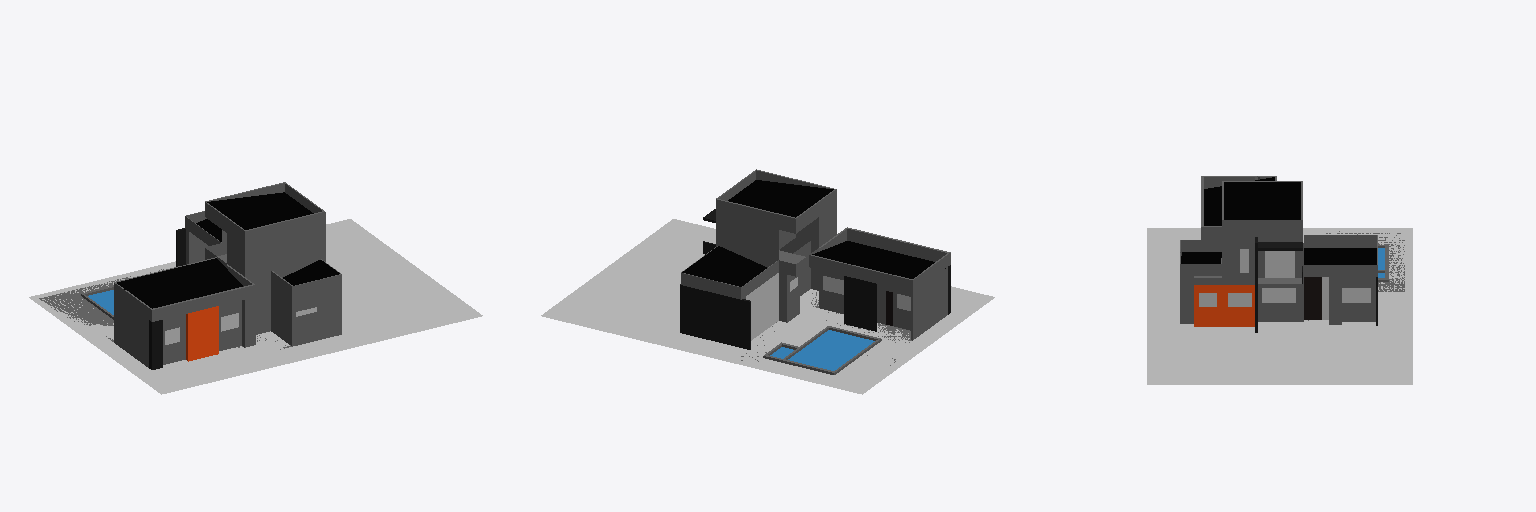
Rendered from casa.obj.
3 renders of one model, left to right at view 1: azimuth 30°, elevation 25°; view 2: azimuth 150°, elevation 25°; view 3: azimuth 270°, elevation 25°, orthographic.
Visible parts, largest first — view 1: casaLeoEdd, casa_Plane, nivel2_Plane.004, techocorrugado_Plane.007, naranja_Plane.017, gris-obs_Plane.005, ventanas_Plane.001; view 2: casaLeoEdd, casa_Plane, nivel2_Plane.004, techocorrugado_Plane.007, gris-obs_Plane.005, agua_Plane.002, ventanas_Plane.001, orilla-alberca_Plane.003; view 3: casaLeoEdd, casa_Plane, techocorrugado_Plane.007, nivel2_Plane.004, ventanas_Plane.001, naranja_Plane.017, gris-obs_Plane.005, puerta_Plane.006.
Boxes of the visible parts, x1=… form: casaLeoEdd: x1=29, y1=219, x2=482, y2=394; casa_Plane: x1=39, y1=211, x2=341, y2=367; nivel2_Plane.004: x1=205, y1=182, x2=325, y2=285; techocorrugado_Plane.007: x1=117, y1=192, x2=339, y2=308; naranja_Plane.017: x1=186, y1=306, x2=218, y2=361; gris-obs_Plane.005: x1=149, y1=228, x2=185, y2=369; ventanas_Plane.001: x1=165, y1=232, x2=316, y2=344; casaLeoEdd: x1=541, y1=219, x2=994, y2=394; casa_Plane: x1=681, y1=227, x2=950, y2=365; nivel2_Plane.004: x1=716, y1=169, x2=836, y2=276; techocorrugado_Plane.007: x1=682, y1=180, x2=934, y2=286; gris-obs_Plane.005: x1=680, y1=209, x2=950, y2=349; agua_Plane.002: x1=770, y1=330, x2=874, y2=370; ventanas_Plane.001: x1=746, y1=273, x2=910, y2=340; orilla-alberca_Plane.003: x1=763, y1=326, x2=881, y2=374; casaLeoEdd: x1=1147, y1=228, x2=1412, y2=384; casa_Plane: x1=1180, y1=176, x2=1404, y2=324; techocorrugado_Plane.007: x1=1181, y1=177, x2=1376, y2=264; nivel2_Plane.004: x1=1222, y1=181, x2=1302, y2=283; ventanas_Plane.001: x1=1199, y1=249, x2=1370, y2=319; naranja_Plane.017: x1=1194, y1=285, x2=1254, y2=326; gris-obs_Plane.005: x1=1255, y1=237, x2=1377, y2=332; puerta_Plane.006: x1=1304, y1=277, x2=1321, y2=319.
Size of the model in its own units: 69.83 by 22.99 by 50.